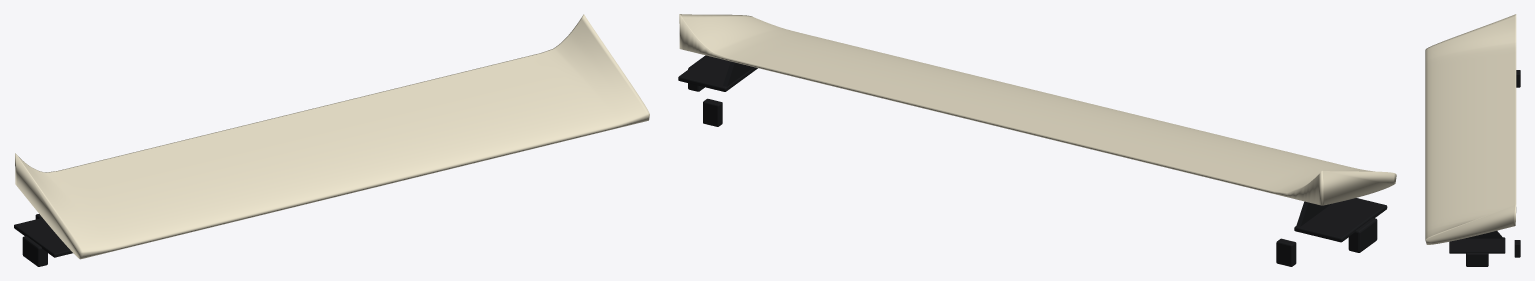
The model's file is spoiler_damd_wing13.glb.
3 renders of one model, left to right at view 1: azimuth 30°, elevation 25°; view 2: azimuth 150°, elevation 25°; view 3: azimuth 270°, elevation 25°, orthographic. The views are drawn at different scales.
Visible parts, largest first — view 1: blade.003, bracket-1.006, clamp-1.002; view 2: blade.003, bracket-1.006, bracket1.006, clamp-1.002, tgClamp-1.001, tgClamp1.001; view 3: blade.003, bracket1.006, clamp1.002, stay1.001, tgClamp1.001, tgClamp-1.001.
Part boxes in pixels (x1,y1,x2,y2): blade.003: [15, 14, 649, 259]; bracket-1.006: [14, 218, 72, 257]; clamp-1.002: [22, 236, 47, 266]; blade.003: [679, 14, 1396, 205]; bracket-1.006: [1294, 198, 1387, 242]; bracket1.006: [678, 55, 757, 91]; clamp-1.002: [1348, 218, 1377, 252]; tgClamp-1.001: [1276, 238, 1296, 266]; tgClamp1.001: [703, 98, 722, 126]; blade.003: [1425, 14, 1516, 244]; bracket1.006: [1449, 237, 1505, 253]; clamp1.002: [1466, 252, 1488, 266]; stay1.001: [1465, 231, 1502, 238]; tgClamp1.001: [1514, 240, 1520, 257]; tgClamp-1.001: [1516, 70, 1520, 87].
Bounding box in the file's own units: 1.27 × 0.1813 × 0.2553.
